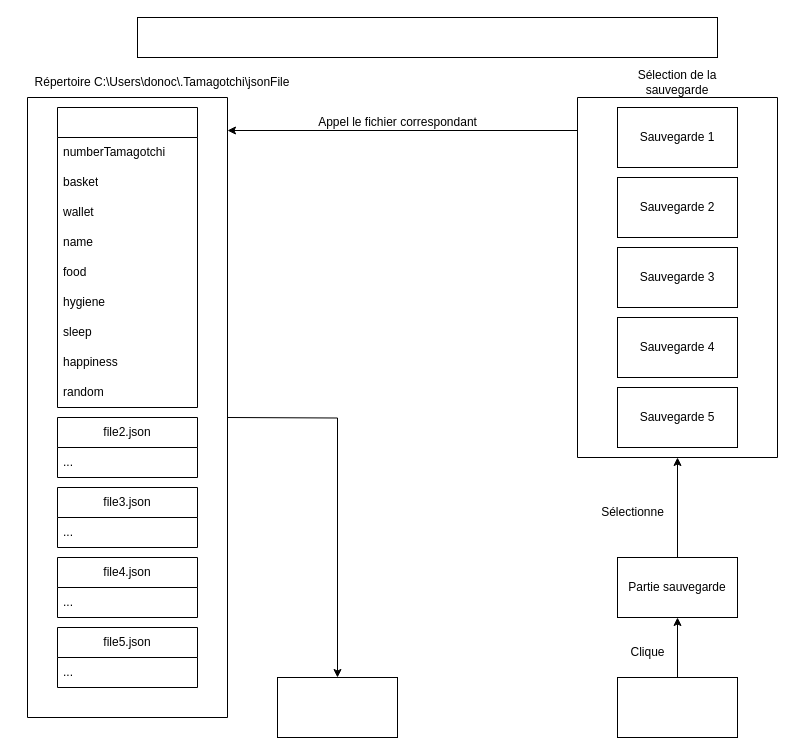
The diagram is 795 pixels wide and 755 high, and some of its shapes have lost their labels. Here are the shapes that lost their labels. From the top down, the box of each, then its label:
(136, 16, 718, 58): Schéma Conceptuel des données persistantes
(56, 106, 198, 408): file1.json
(276, 676, 398, 738): Affiche la partie sélectionnée
(616, 676, 738, 738): Utilisateur
